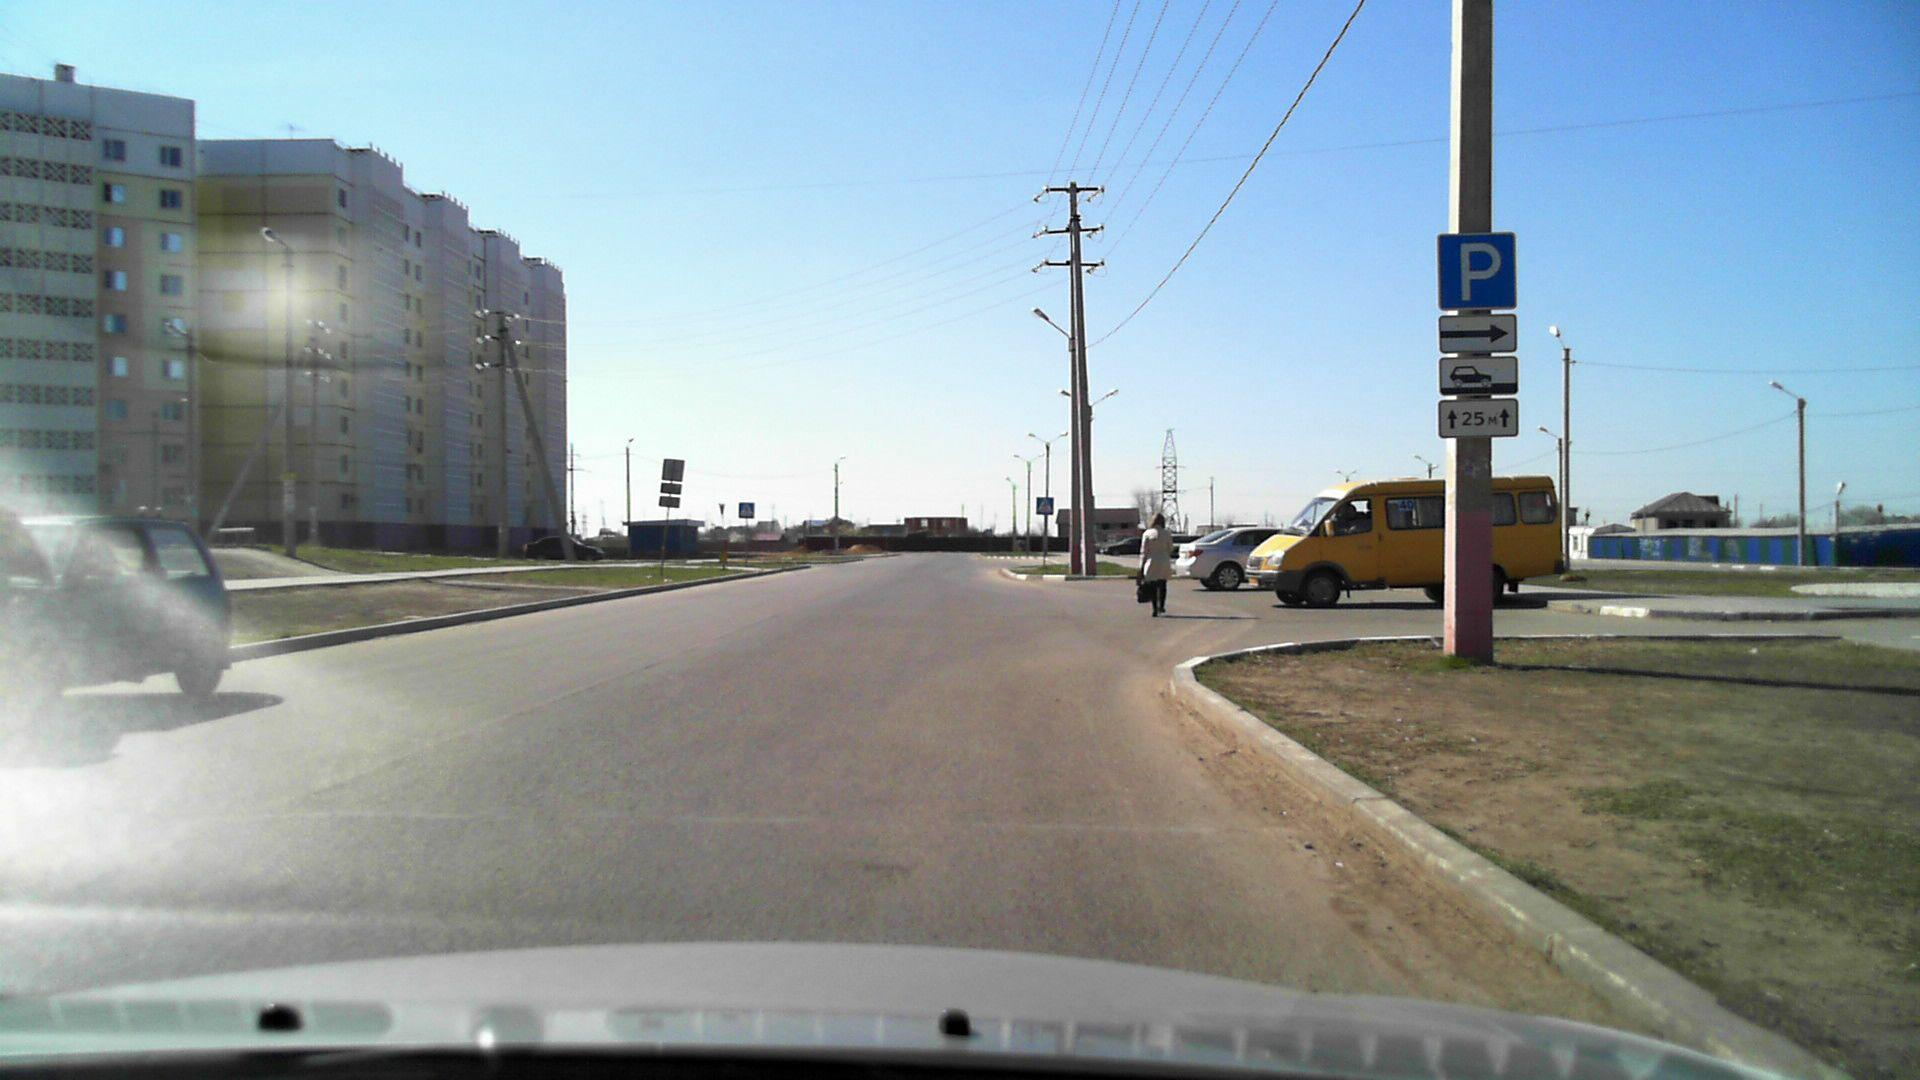5_19_1: (1036, 497, 1054, 512)
5_19_2: (738, 502, 754, 518)
6_4: (1431, 232, 1521, 310)
8_2_1: (1437, 396, 1521, 438)
8_3_1: (1438, 315, 1518, 351)
8_6_5: (1443, 359, 1518, 394)
